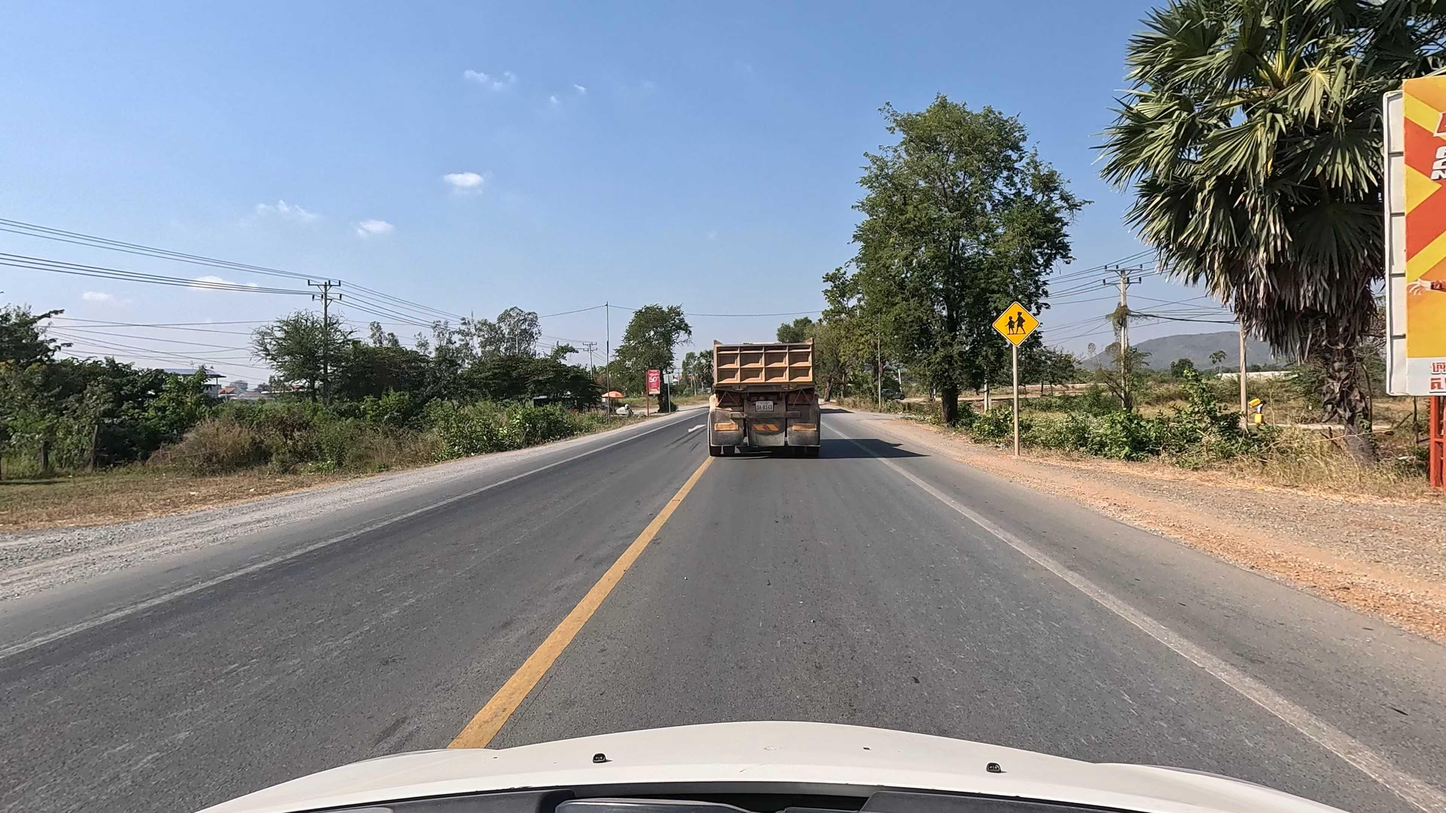school_zone: (991, 301, 1042, 349)
